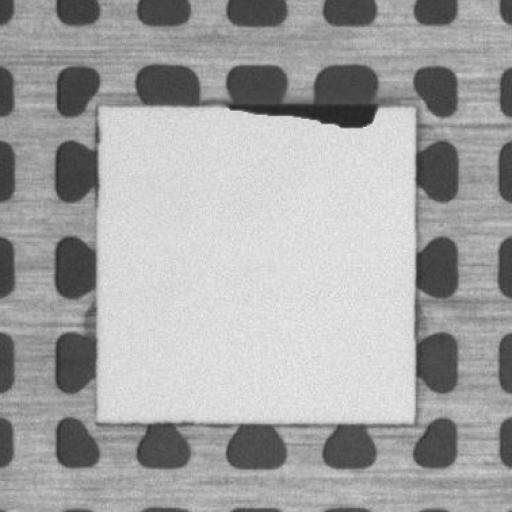DIE_BROKEN: (225, 94, 382, 130)
